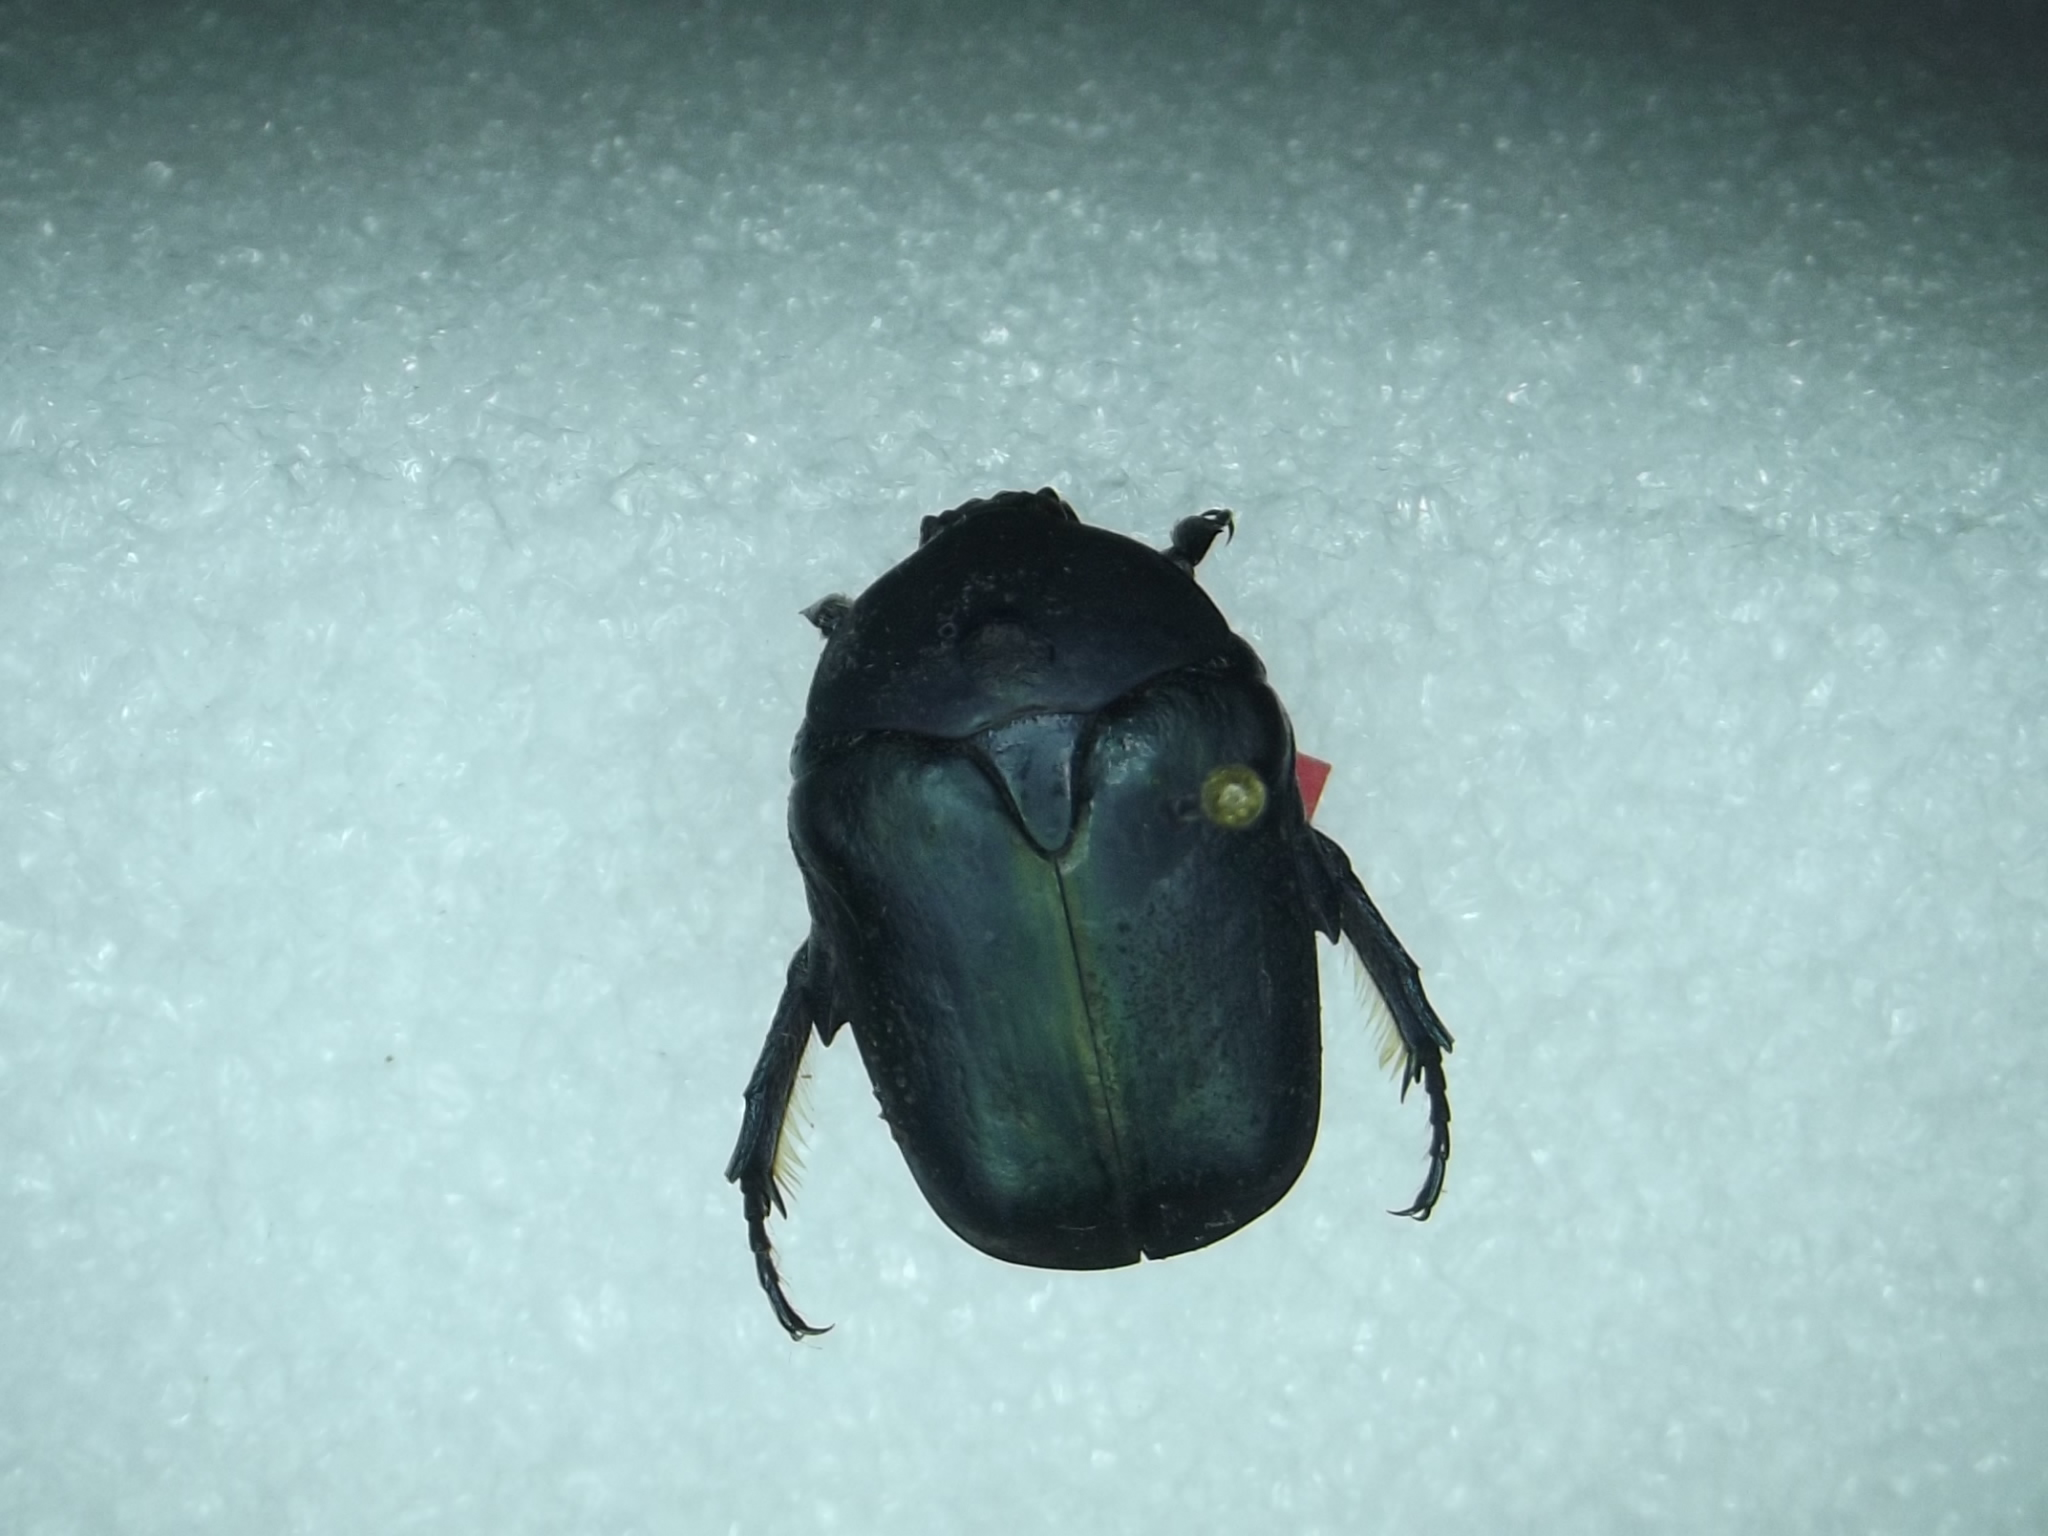Protaetia_afflicta: (698, 465, 1496, 1354)
